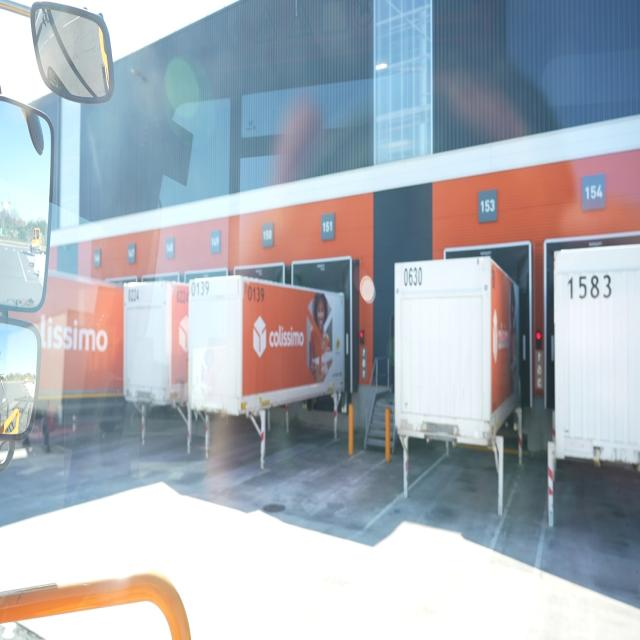Code: (564, 268, 616, 306), (244, 277, 267, 305), (401, 263, 424, 291), (188, 280, 212, 302), (121, 284, 142, 306)
